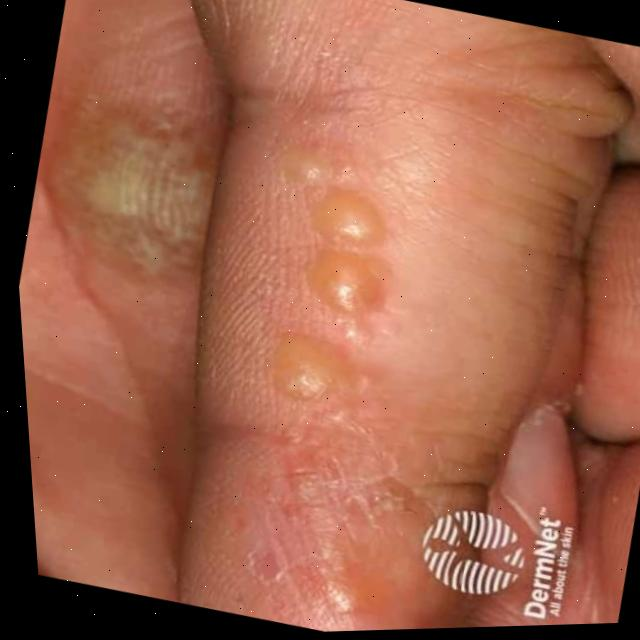Eczema: (196, 122, 520, 616), (75, 122, 191, 259)
